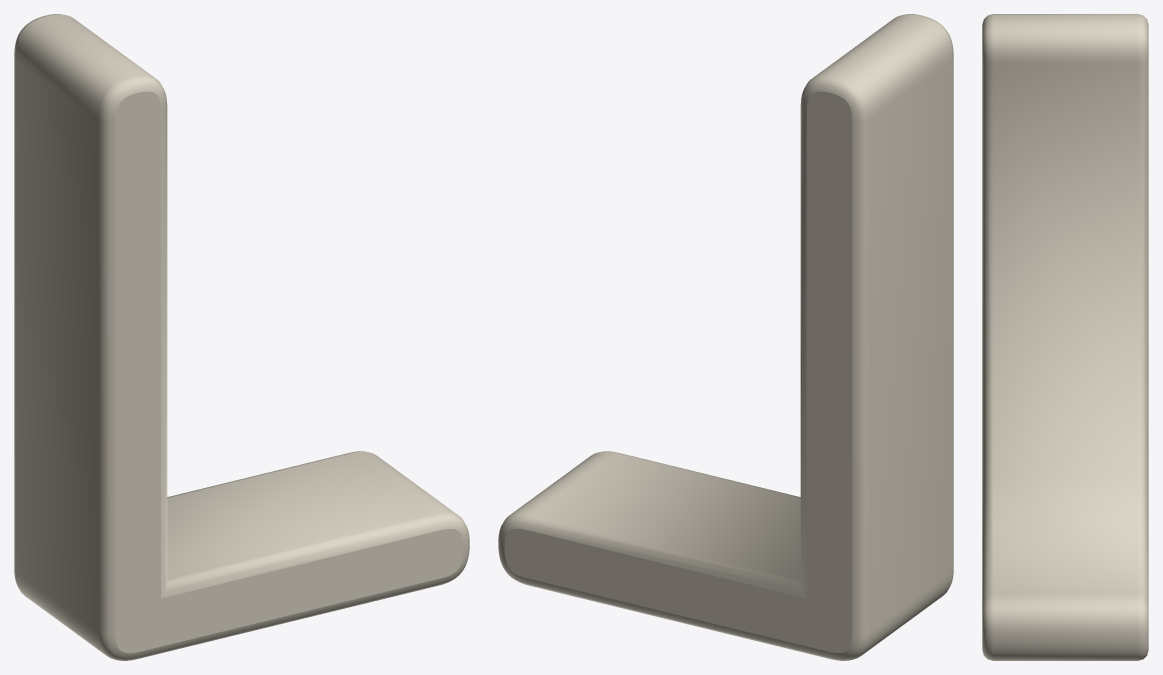
Rendered from letter_l.glb.
3 renders of one model, left to right at view 1: azimuth 30°, elevation 25°; view 2: azimuth 150°, elevation 25°; view 3: azimuth 270°, elevation 25°, orthographic. The views are drawn at different scales.
Parts seen in each view (by area): view 1: color_body; view 2: color_body; view 3: color_body.
Boxes of the visible parts, x1=… form: color_body: x1=14, y1=14, x2=469, y2=660; color_body: x1=498, y1=14, x2=953, y2=660; color_body: x1=982, y1=14, x2=1148, y2=660.
Bounding box in the file's own units: 0.5419 × 0.816 × 0.242.
